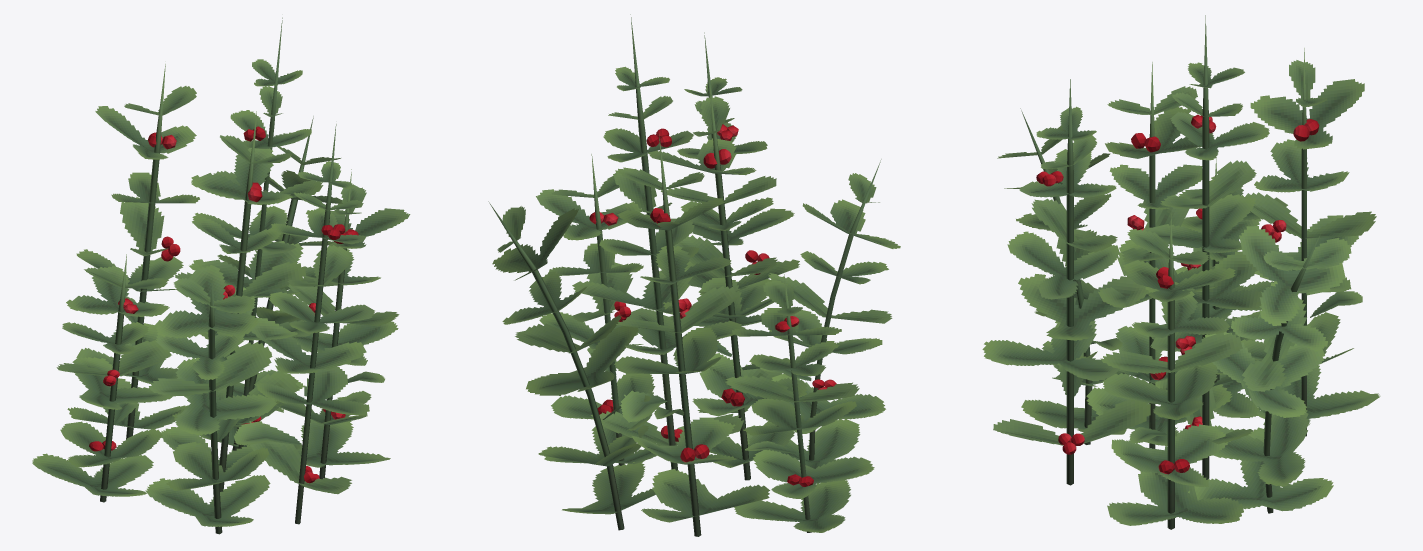
The model's file is BerryBush.gltf.
The picture shows the model from 3 angles, left to right: view 1: azimuth 30°, elevation 25°; view 2: azimuth 150°, elevation 25°; view 3: azimuth 270°, elevation 25°; orthographic projection. The views are drawn at different scales.
Visible parts, largest first — view 1: Object_7, Object_17, Object_11, Object_15, Object_14, Object_12; view 2: Object_7, Object_17, Object_11, Object_15, Object_12; view 3: Object_7, Object_17, Object_11, Object_15, Object_14, Object_12.
Boxes of the visible parts, <box> form: Object_7: <box>32,59,410,526</box>; Object_17: <box>56,86,399,534</box>; Object_11: <box>232,17,351,479</box>; Object_15: <box>89,126,358,483</box>; Object_14: <box>295,124,336,524</box>; Object_12: <box>219,111,256,491</box>; Object_7: <box>492,66,900,536</box>; Object_17: <box>497,96,892,532</box>; Object_11: <box>488,14,677,530</box>; Object_15: <box>589,124,836,486</box>; Object_12: <box>709,77,750,480</box>; Object_7: <box>982,48,1380,525</box>; Object_17: <box>993,60,1376,446</box>; Object_11: <box>1167,15,1320,529</box>; Object_15: <box>1036,114,1319,474</box>; Object_14: <box>1066,79,1073,485</box>; Object_12: <box>1149,62,1155,448</box>.
Size of the model in its own units: 3.3 by 4.03 by 3.22.
1 material, 1 textured.
